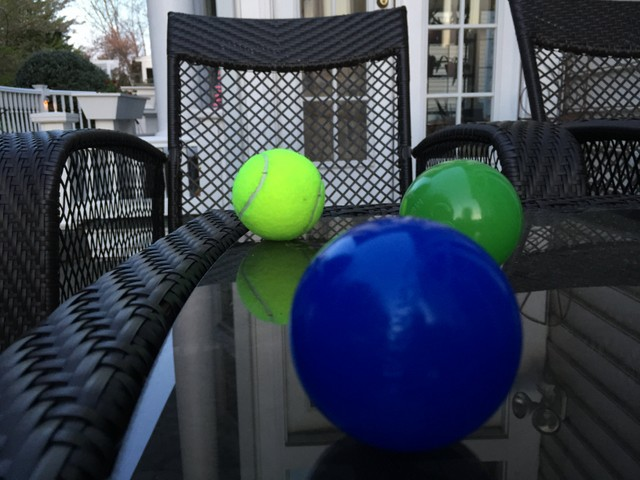Ball: (399, 158, 524, 263)
